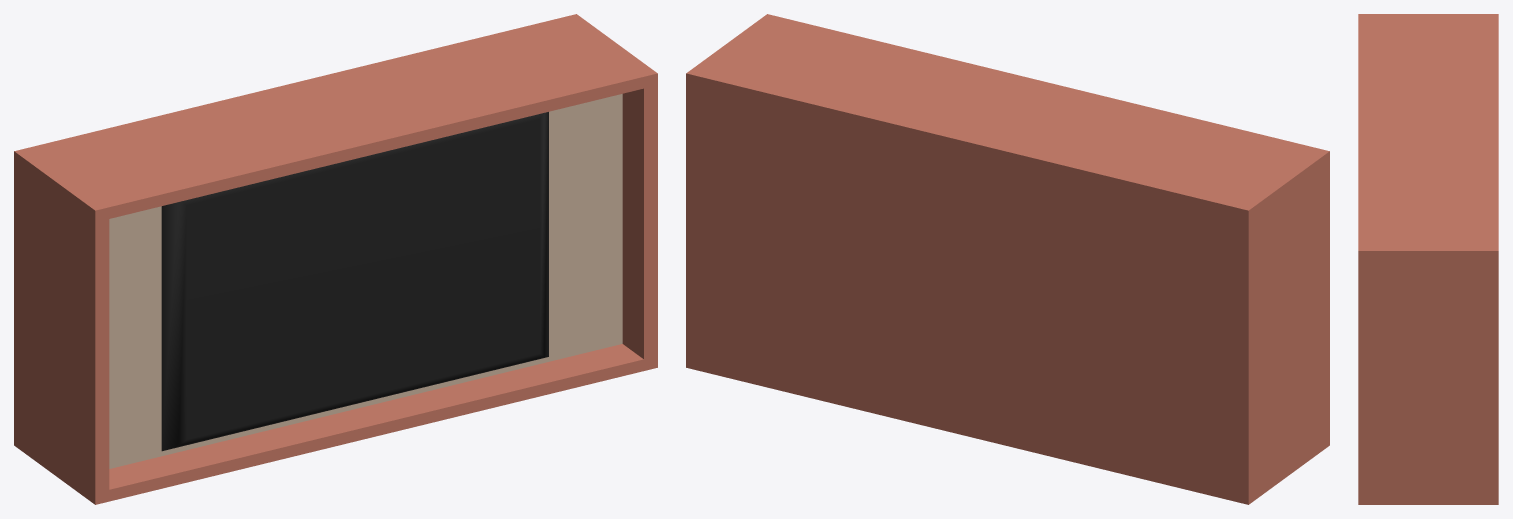
File: PatternScreen.fbx
The picture shows the model from 3 angles, left to right: view 1: azimuth 30°, elevation 25°; view 2: azimuth 150°, elevation 25°; view 3: azimuth 270°, elevation 25°; orthographic projection. The views are drawn at different scales.
Visible parts, largest first — view 1: Block6; view 2: Block6; view 3: Block6.
Part boxes in pixels (x1,y1,x2,y2): Block6: (14, 14, 657, 504); Block6: (686, 14, 1329, 504); Block6: (1358, 14, 1498, 504).
Bounding box in the file's own units: 2 × 1 × 0.5.
